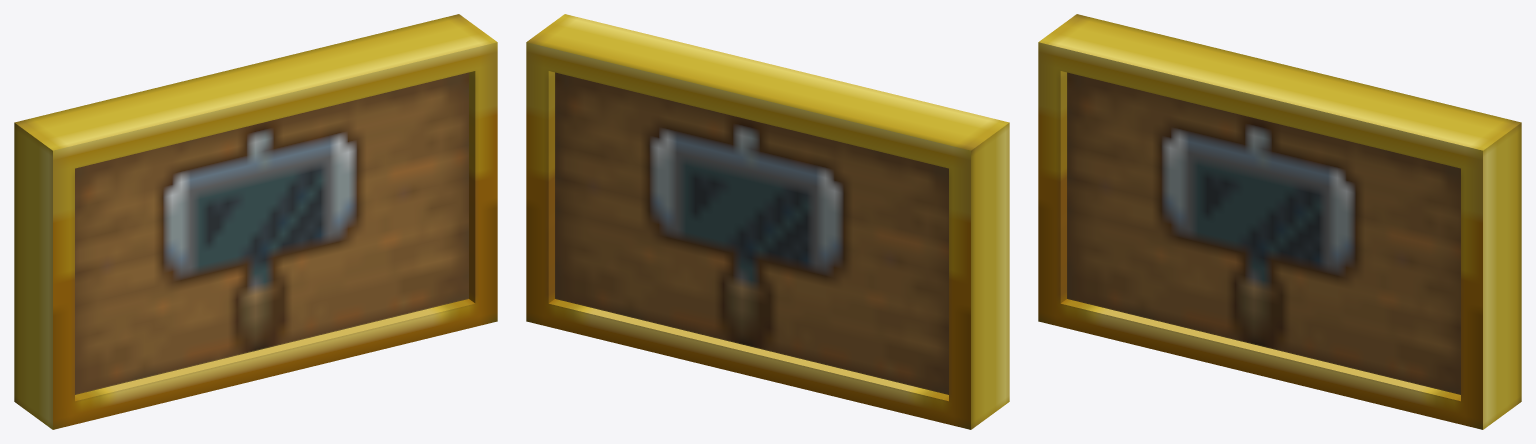
File: Poly_Board_Sign_13.obj
3 views of the same model, side by side, from view 1: azimuth 30°, elevation 25°; view 2: azimuth 150°, elevation 25°; view 3: azimuth 330°, elevation 25° (orthographic).
Parts seen in each view (by area): view 1: Cube; view 2: Cube; view 3: Cube.
Boxes of the visible parts, box(x1,y1,x2,y2) form: Cube: box(14, 14, 497, 429); Cube: box(526, 14, 1009, 429); Cube: box(1038, 14, 1521, 429).
Size of the model in its own units: 1 by 0.6 by 0.15.
1 material, 1 textured.
